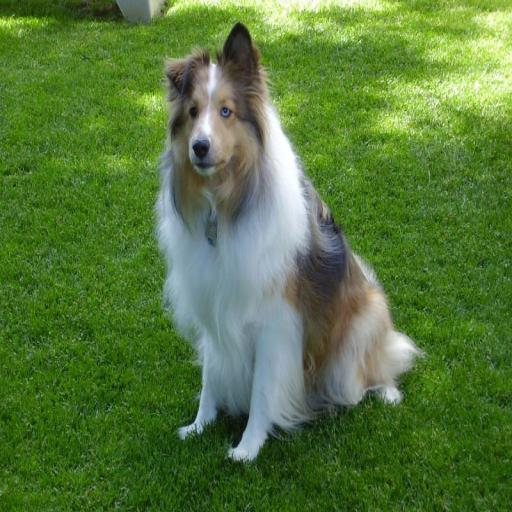dog_face: (161, 23, 261, 184)
